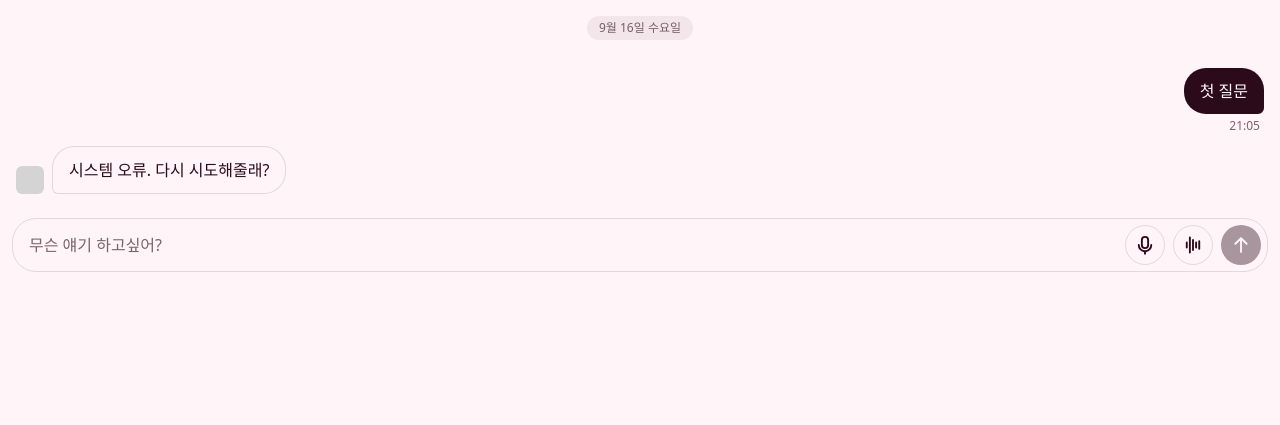
RoomView (DESIGN.md#3) › 오류 말풍선은 다시 보내면 화면에서 사라진다 (D-038 2, 실측 FAIL 재현)
This screenshot has width=1280, height=425.
Expected: the text "시스템 오류. 다시 시도해줄래?" is shown, [52, 146, 286, 194]
Type "다시 물어봄" into the text box named "메시지" at coordinates (573, 245), box [29, 229, 1117, 261]
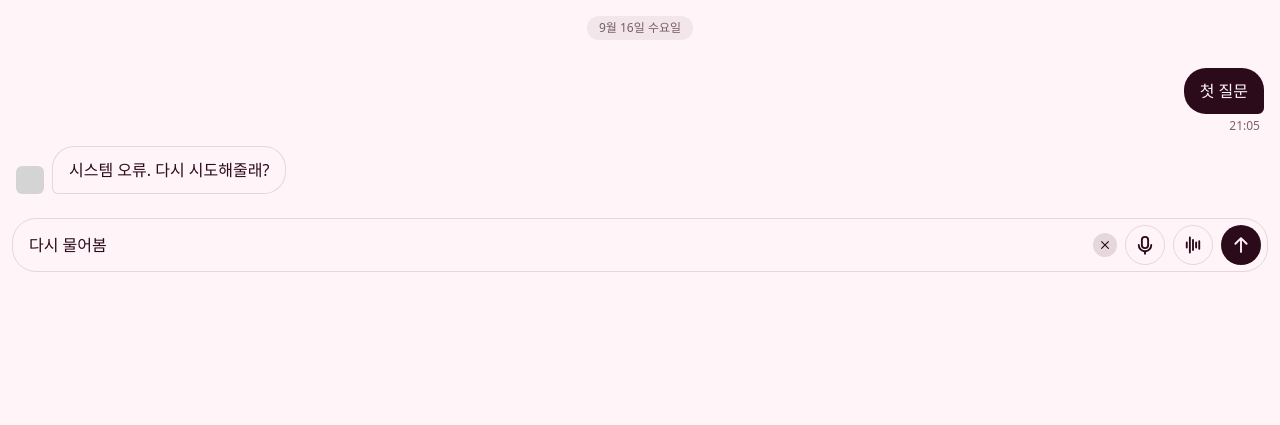
Click the button named "전송" at coordinates (1241, 245), box [1221, 225, 1261, 265]
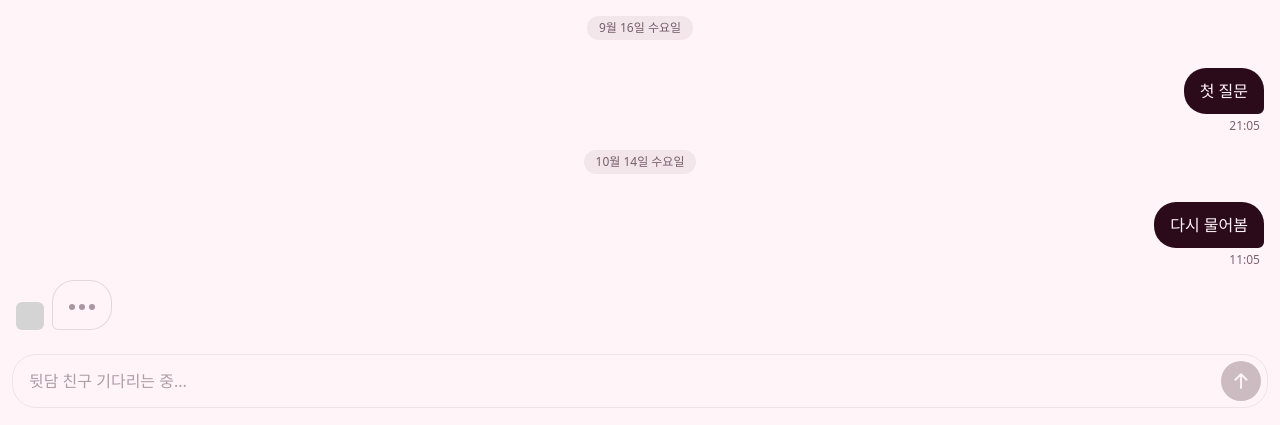
Expected: the text "시스템 오류. 다시 시도해줄래?" is gone
